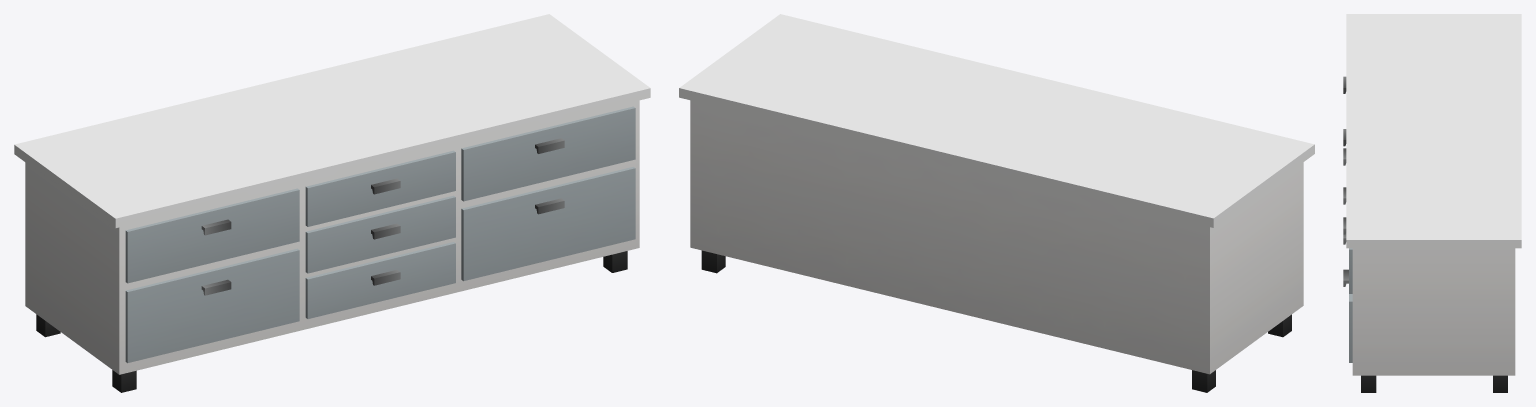
Rendered from SideboardCabinet_B_WhiteGrey.fbx.
The picture shows the model from 3 angles, left to right: view 1: azimuth 30°, elevation 25°; view 2: azimuth 150°, elevation 25°; view 3: azimuth 270°, elevation 25°; orthographic projection. The views are drawn at different scales.
Visible parts, largest first — view 1: SideboardCabinet_B_WhiteGrey; view 2: SideboardCabinet_B_WhiteGrey; view 3: SideboardCabinet_B_WhiteGrey.
Boxes of the visible parts, box(x1,y1,x2,y2) form: SideboardCabinet_B_WhiteGrey: box(14, 14, 650, 392); SideboardCabinet_B_WhiteGrey: box(679, 14, 1314, 392); SideboardCabinet_B_WhiteGrey: box(1343, 14, 1521, 392).
Size of the model in its own units: 244 by 80.14 by 81.41.
